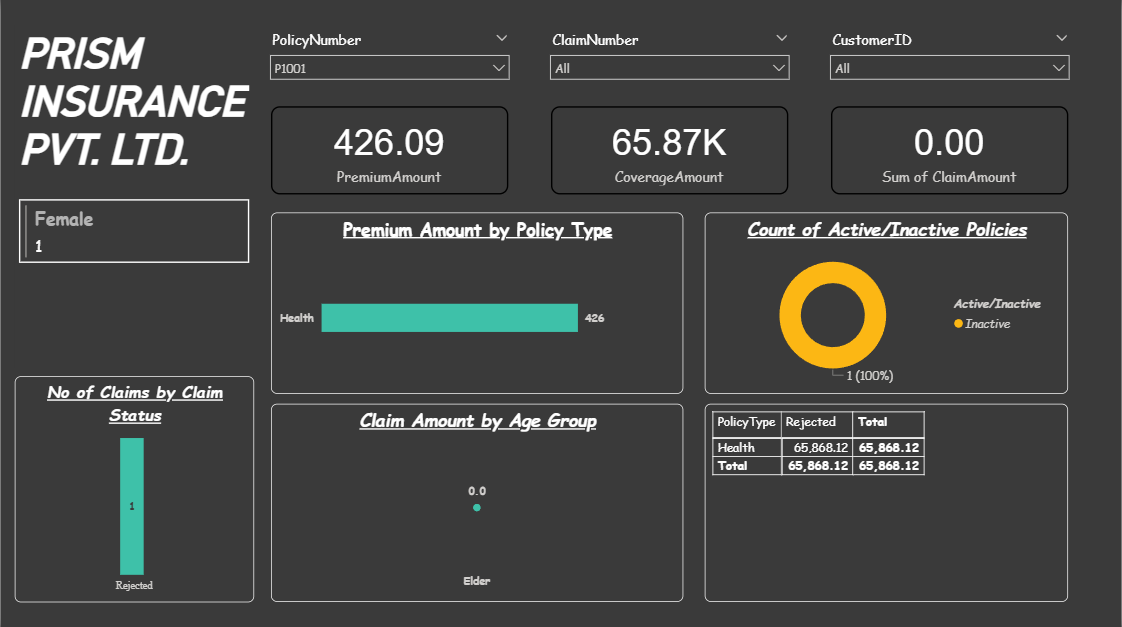

This screenshot's page, from the dashboard's own definition file:
{"tool":"powerbi","page":{"name":"Page 1","canvas":[1280,720],"ordinal":0},"visuals":[{"type":"slicer","fields":{"Values":["InsuranceData.PolicyNumber"]},"box":[296.5,27.9,294.2,82.6],"z":0},{"type":"slicer","fields":{"Values":["InsuranceData.ClaimNumber"]},"box":[617.4,27.9,294.2,82.6],"z":1},{"type":"slicer","fields":{"Values":["InsuranceData.CustomerID"]},"box":[937.2,27.9,294.2,82.6],"z":2},{"type":"textbox","box":[15.1,27.9,273.3,195.3],"z":3},{"type":"card","fields":{"Values":["Sum(InsuranceData.PremiumAmount)"]},"box":[308.1,122.1,270.9,101.2],"z":4},{"type":"card","fields":{"Values":["Sum(InsuranceData.CoverageAmount)"]},"box":[629.1,122.1,270.9,101.2],"z":5},{"type":"card","fields":{"Values":["Sum(InsuranceData.ClaimAmount)"]},"box":[948.8,122.1,270.9,101.2],"z":6},{"type":"multiRowCard","fields":{"Values":["CountNonNull(InsuranceData.Gender)","InsuranceData.Gender"]},"box":[15.1,223.3,273.3,197.7],"z":7},{"type":"ribbonChart","title":"No of Claims by Claim Status","fields":{"Category":["InsuranceData.ClaimStatus"],"Y":["CountNonNull(InsuranceData.ClaimStatus)"]},"box":[15.1,430.2,273.3,258.1],"z":8},{"type":"barChart","title":"Premium Amount by Policy Type","fields":{"Category":["InsuranceData.PolicyType"],"Y":["Sum(InsuranceData.PremiumAmount)"]},"box":[308.1,243,470.9,207],"z":9},{"type":"lineChart","title":"Claim Amount by Age Group","fields":{"Category":["InsuranceData.Age Group"],"Y":["Sum(InsuranceData.ClaimAmount)"]},"box":[308.1,461.6,470.9,226.7],"z":10},{"type":"donutChart","title":"Count of Active/Inactive Policies","fields":{"Category":["InsuranceData.Active/Inactive"],"Y":["CountNonNull(InsuranceData.Active/Inactive)"]},"box":[804.7,243,415.1,207],"z":11},{"type":"pivotTable","fields":{"Values":["Sum(InsuranceData.CoverageAmount)"],"Rows":["InsuranceData.PolicyType"],"Columns":["InsuranceData.ClaimStatus"]},"box":[804.7,461.6,415.1,226.7],"z":12}]}

Visuals, with their boxes in screenshot pixels (x1, y1, x2, y2), scaled from the page's 1280x720 canvas onto the 1122x627 screenshot:
slicer - InsuranceData.PolicyNumber: {"left": 260, "top": 24, "right": 518, "bottom": 96}
slicer - InsuranceData.ClaimNumber: {"left": 541, "top": 24, "right": 799, "bottom": 96}
slicer - InsuranceData.CustomerID: {"left": 822, "top": 24, "right": 1079, "bottom": 96}
textbox: {"left": 13, "top": 24, "right": 253, "bottom": 194}
card - Sum(InsuranceData.PremiumAmount): {"left": 270, "top": 106, "right": 508, "bottom": 194}
card - Sum(InsuranceData.CoverageAmount): {"left": 551, "top": 106, "right": 789, "bottom": 194}
card - Sum(InsuranceData.ClaimAmount): {"left": 832, "top": 106, "right": 1069, "bottom": 194}
multiRowCard - CountNonNull(InsuranceData.Gender) x InsuranceData.Gender: {"left": 13, "top": 194, "right": 253, "bottom": 367}
"No of Claims by Claim Status" ribbonChart: {"left": 13, "top": 375, "right": 253, "bottom": 599}
"Premium Amount by Policy Type" barChart: {"left": 270, "top": 212, "right": 683, "bottom": 392}
"Claim Amount by Age Group" lineChart: {"left": 270, "top": 402, "right": 683, "bottom": 599}
"Count of Active/Inactive Policies" donutChart: {"left": 705, "top": 212, "right": 1069, "bottom": 392}
pivotTable - Sum(InsuranceData.CoverageAmount) x InsuranceData.PolicyType: {"left": 705, "top": 402, "right": 1069, "bottom": 599}
